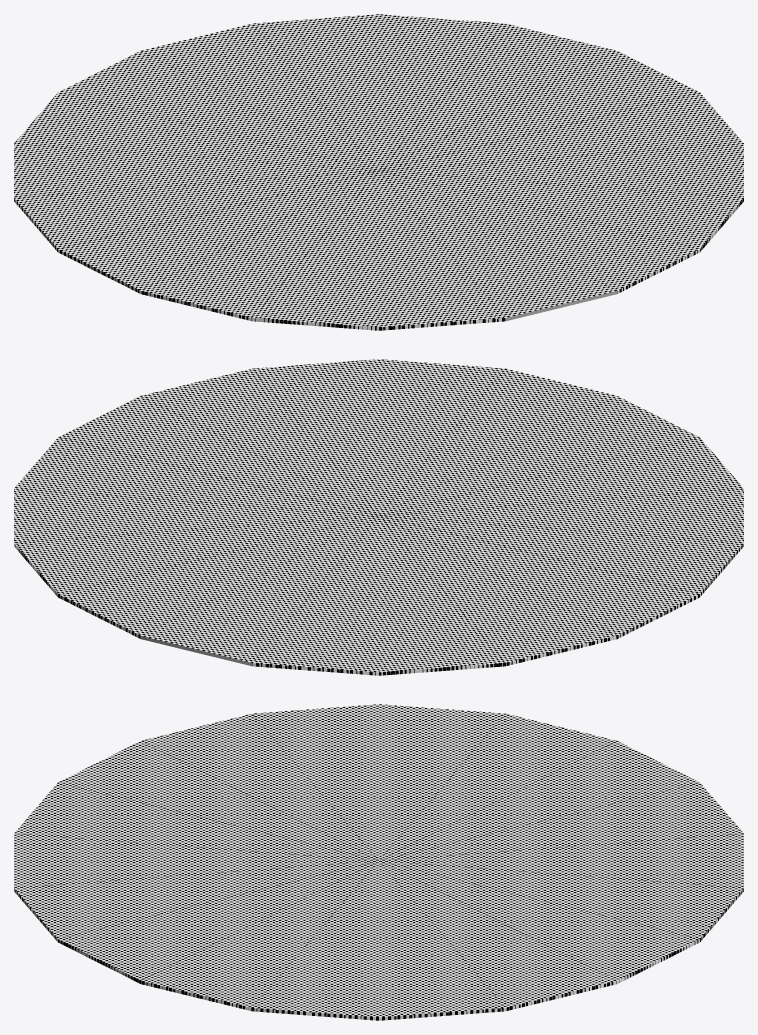
File: FLOOD.FBX
The picture shows the model from 3 angles, top to bottom: view 1: azimuth 30°, elevation 25°; view 2: azimuth 150°, elevation 25°; view 3: azimuth 270°, elevation 25°; orthographic projection.
Visible parts, largest first — view 1: Cylinder001; view 2: Cylinder001; view 3: Cylinder001.
Boxes of the visible parts, box(x1,y1,x2,y2) form: Cylinder001: box(14, 14, 743, 330); Cylinder001: box(14, 359, 743, 675); Cylinder001: box(14, 704, 743, 1020).
Bounding box in the file's own units: 400 × 2 × 394.
Materials: 1 (1 with a texture image).
